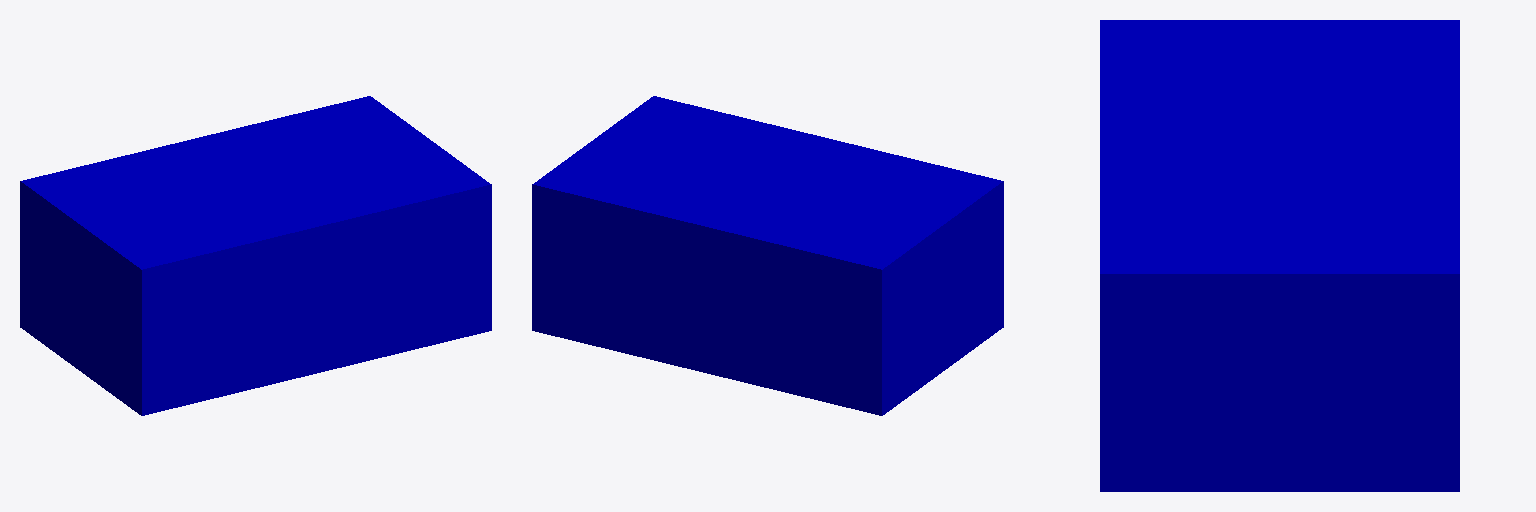
The robot description file, URDF, robot "test_simple_robot":
<?xml version="1.0"?>
<robot name="test_simple_robot">
  <link name="base_link">
    <inertial>
      <mass value="1.0"/>
      <inertia ixx="0.1" ixy="0.0" ixz="0.0" iyy="0.1" iyz="0.0" izz="0.1"/>
    </inertial>
    <visual>
      <geometry>
        <box size="0.5 0.3 0.2"/>
      </geometry>
      <material name="blue">
        <color rgba="0 0 0.8 1"/>
      </material>
    </visual>
    <collision>
      <geometry>
        <box size="0.5 0.3 0.2"/>
      </geometry>
    </collision>
  </link>
</robot>

--- Render facts (derived) ---
The picture shows the robot from 3 angles, left to right: view 1: azimuth 30°, elevation 25°; view 2: azimuth 150°, elevation 25°; view 3: azimuth 270°, elevation 25°; orthographic projection.
Model test_simple_robot with 1 links and 0 joints (none), rooted at base_link, posed every joint at zero.
Visible links, largest first — view 1: base_link; view 2: base_link; view 3: base_link.
Boxes of the visible links, x1,y1,x2,y2 form: base_link: (20,96,491,415); base_link: (532,96,1003,415); base_link: (1100,20,1459,491).
Bounding box of the posed robot: 0.5 × 0.3 × 0.2 m (x, y, z).
Geometry: primitives only (box / cylinder / sphere), no mesh files.
